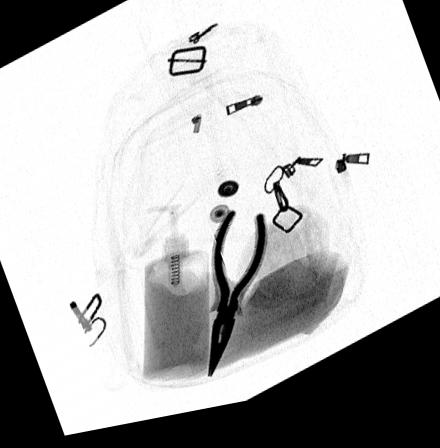Pliers: (207, 219, 267, 387)
